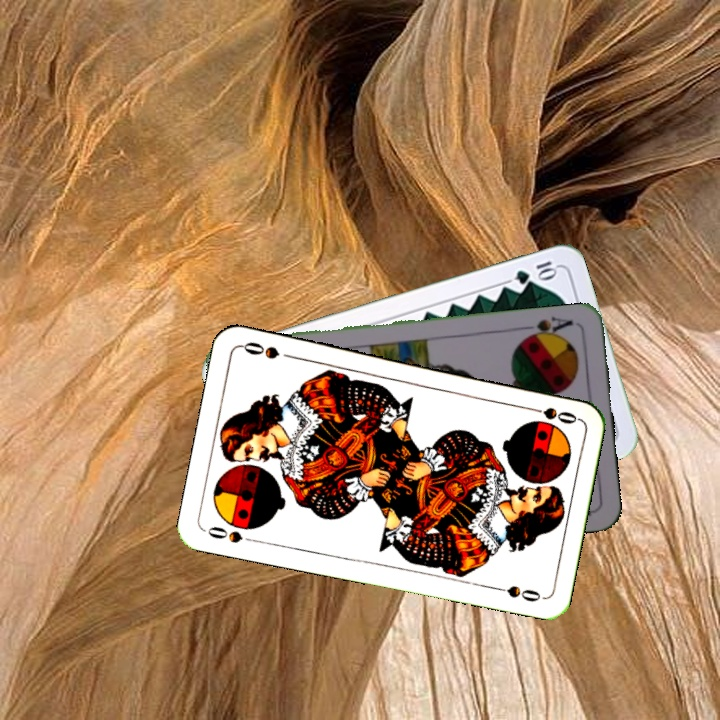G10: (511, 257, 560, 287)
SA: (519, 313, 575, 343)
SO: (521, 402, 580, 427), (201, 522, 260, 546)
